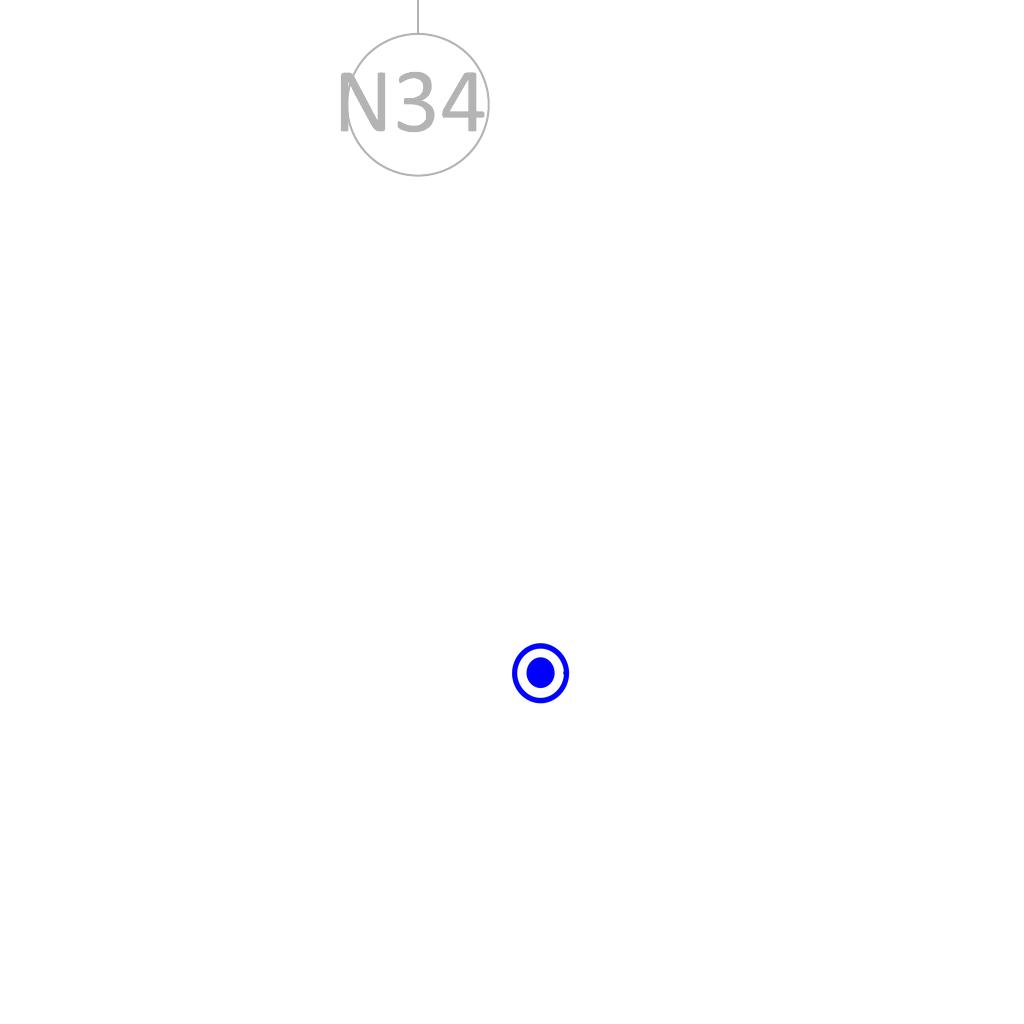Taster: (510, 640, 576, 706)
